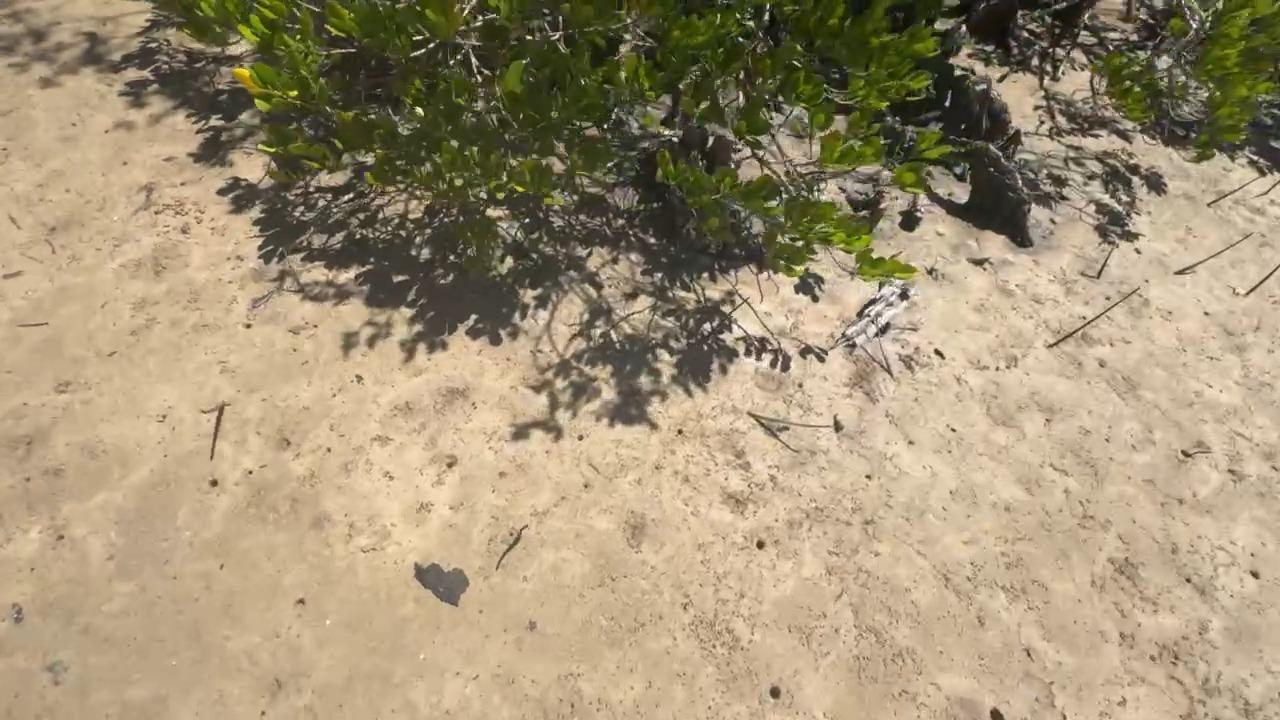Tree: (1049, 286, 1139, 348), (1176, 232, 1254, 274), (1207, 174, 1265, 205), (747, 412, 833, 427), (1243, 264, 1280, 298), (1097, 250, 1113, 279), (202, 401, 223, 415), (1264, 181, 1280, 195), (508, 527, 523, 537)
